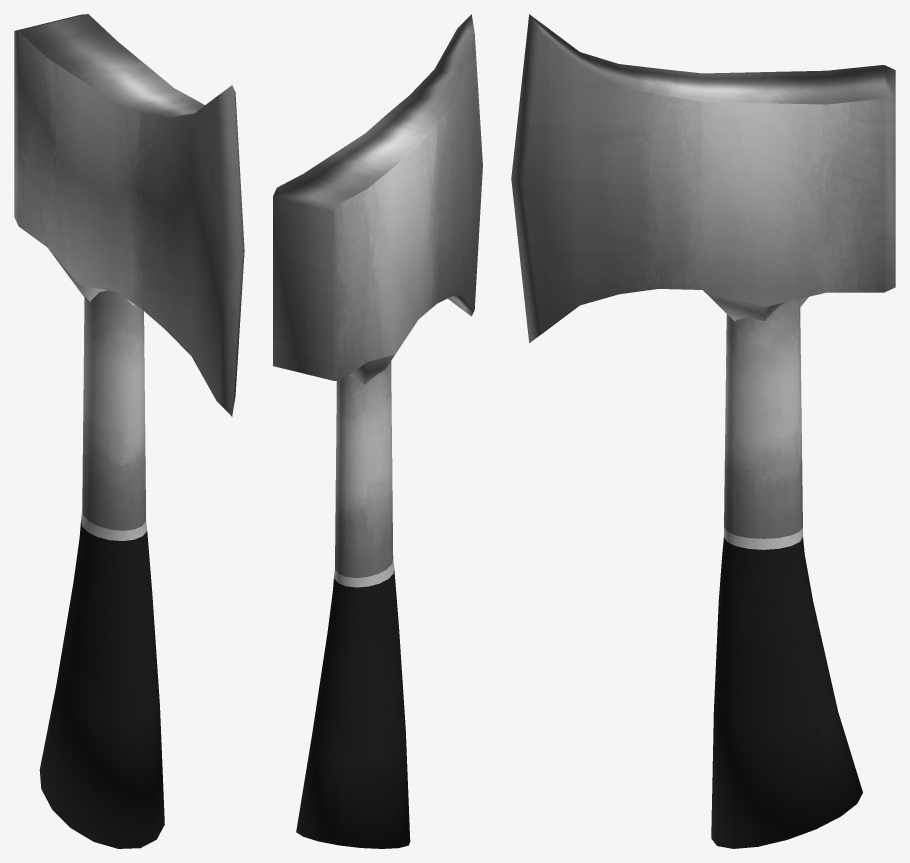
Rendered from axe.fbx.
3 renders of one model, left to right at view 1: azimuth 30°, elevation 25°; view 2: azimuth 150°, elevation 25°; view 3: azimuth 270°, elevation 25°, orthographic. The views are drawn at different scales.
Parts seen in each view (by area): view 1: Cube, Circle; view 2: Cube, Circle; view 3: Cube, Circle.
Boxes of the visible parts, bbox=[...] form: Cube: bbox=[14, 14, 244, 416]; Circle: bbox=[39, 290, 164, 848]; Cube: bbox=[273, 14, 482, 384]; Circle: bbox=[296, 361, 410, 848]; Cube: bbox=[511, 14, 895, 342]; Circle: bbox=[711, 300, 862, 848].
Size of the model in its own units: 358 by 2825 by 1194.
